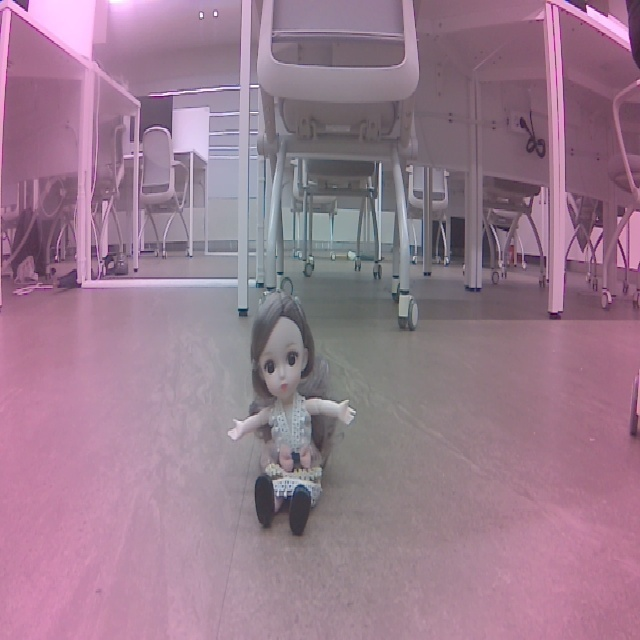장애물: (223, 285, 358, 530)
